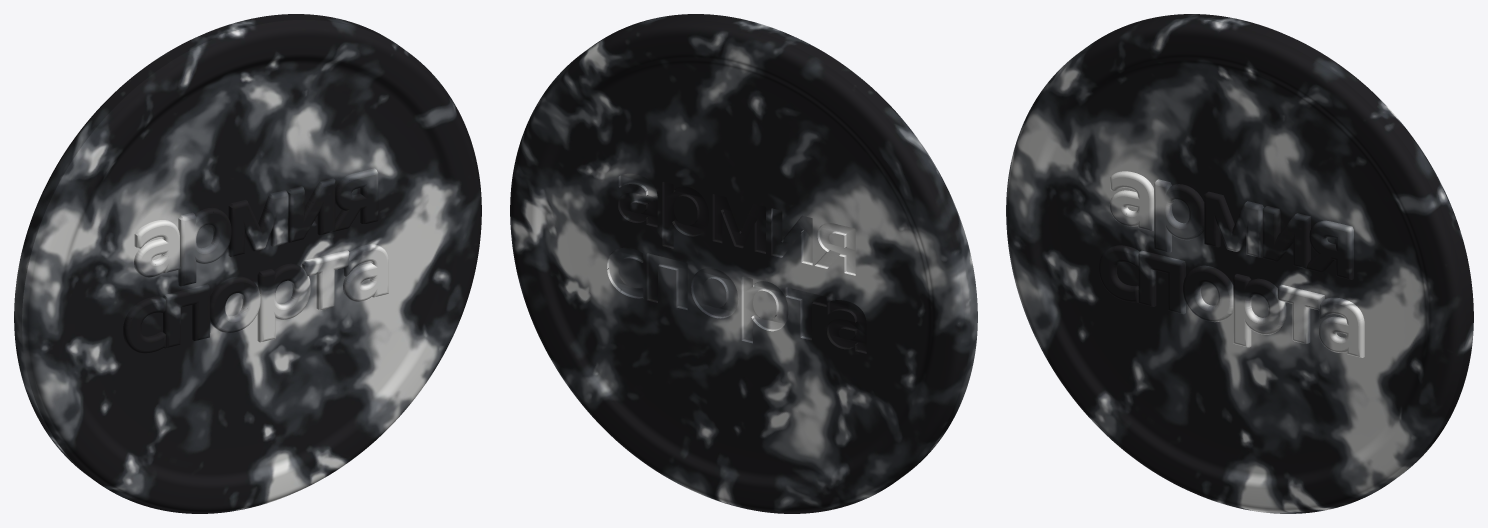
File: token_black.glb
The picture shows the model from 3 angles, left to right: view 1: azimuth 30°, elevation 25°; view 2: azimuth 150°, elevation 25°; view 3: azimuth 330°, elevation 25°; orthographic projection.
Parts seen in each view (by area): view 1: Жетон; view 2: Жетон; view 3: Жетон.
Boxes of the visible parts, <box> form: Жетон: <box>14,14,481,513</box>; Жетон: <box>510,14,977,513</box>; Жетон: <box>1006,14,1473,513</box>.
Size of the model in its own units: 2 by 2 by 0.1531.
Materials: 1 (1 with a texture image).
